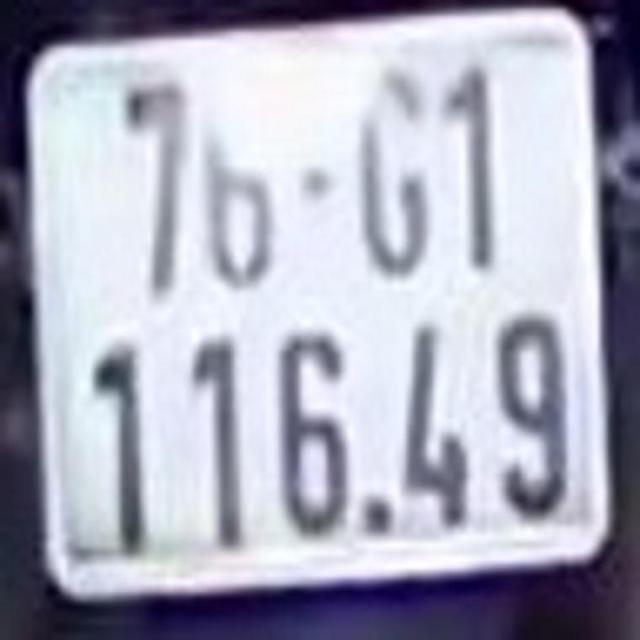1: (89, 338, 155, 554), (183, 330, 245, 553), (440, 61, 501, 278)
4: (395, 313, 478, 538)
6: (200, 78, 276, 294), (279, 327, 348, 539)
7: (117, 75, 190, 295)
9: (491, 308, 575, 516)
G: (345, 54, 434, 288)
